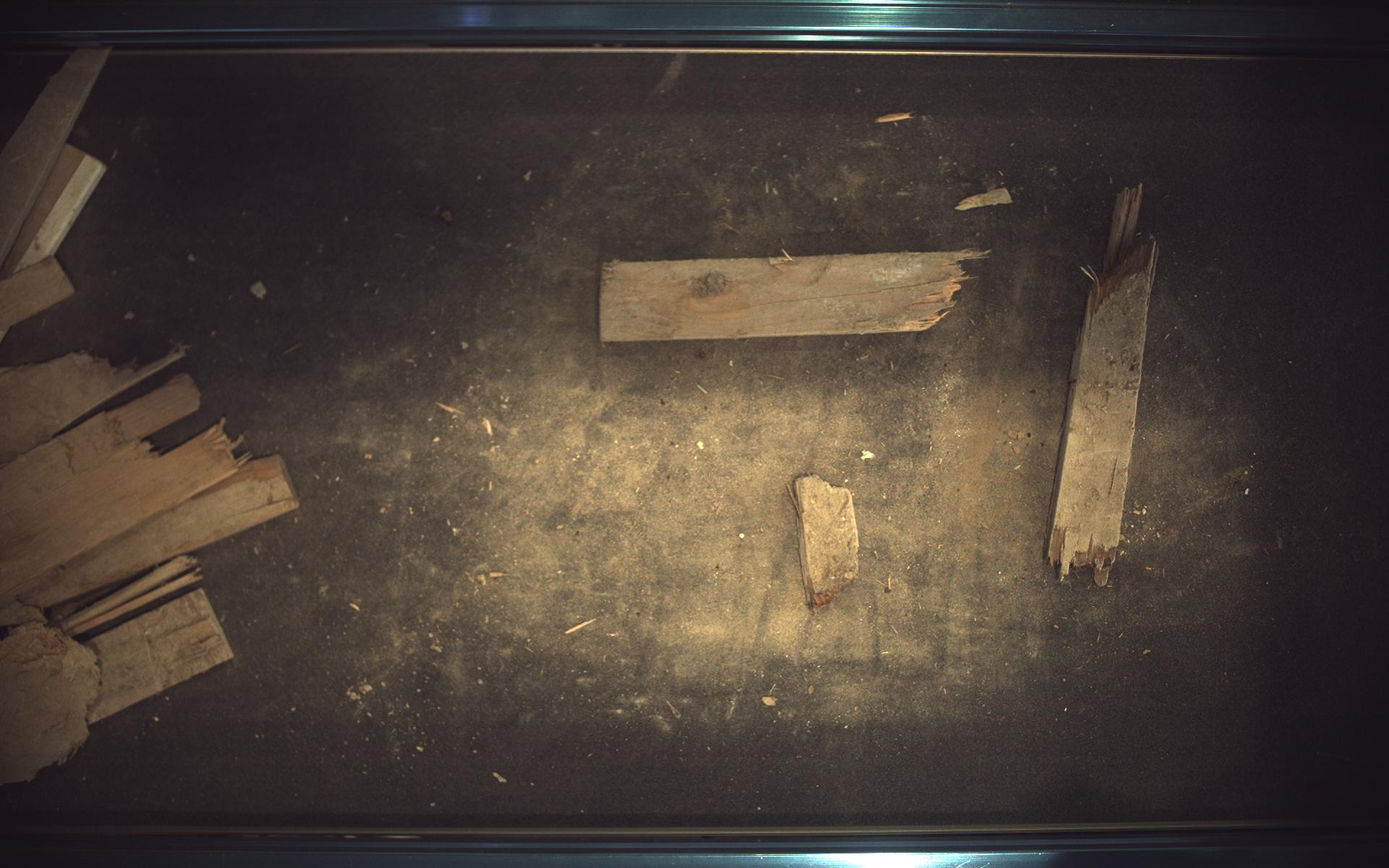wood: (1050, 184, 1160, 586), (600, 249, 988, 342), (790, 475, 861, 612)
